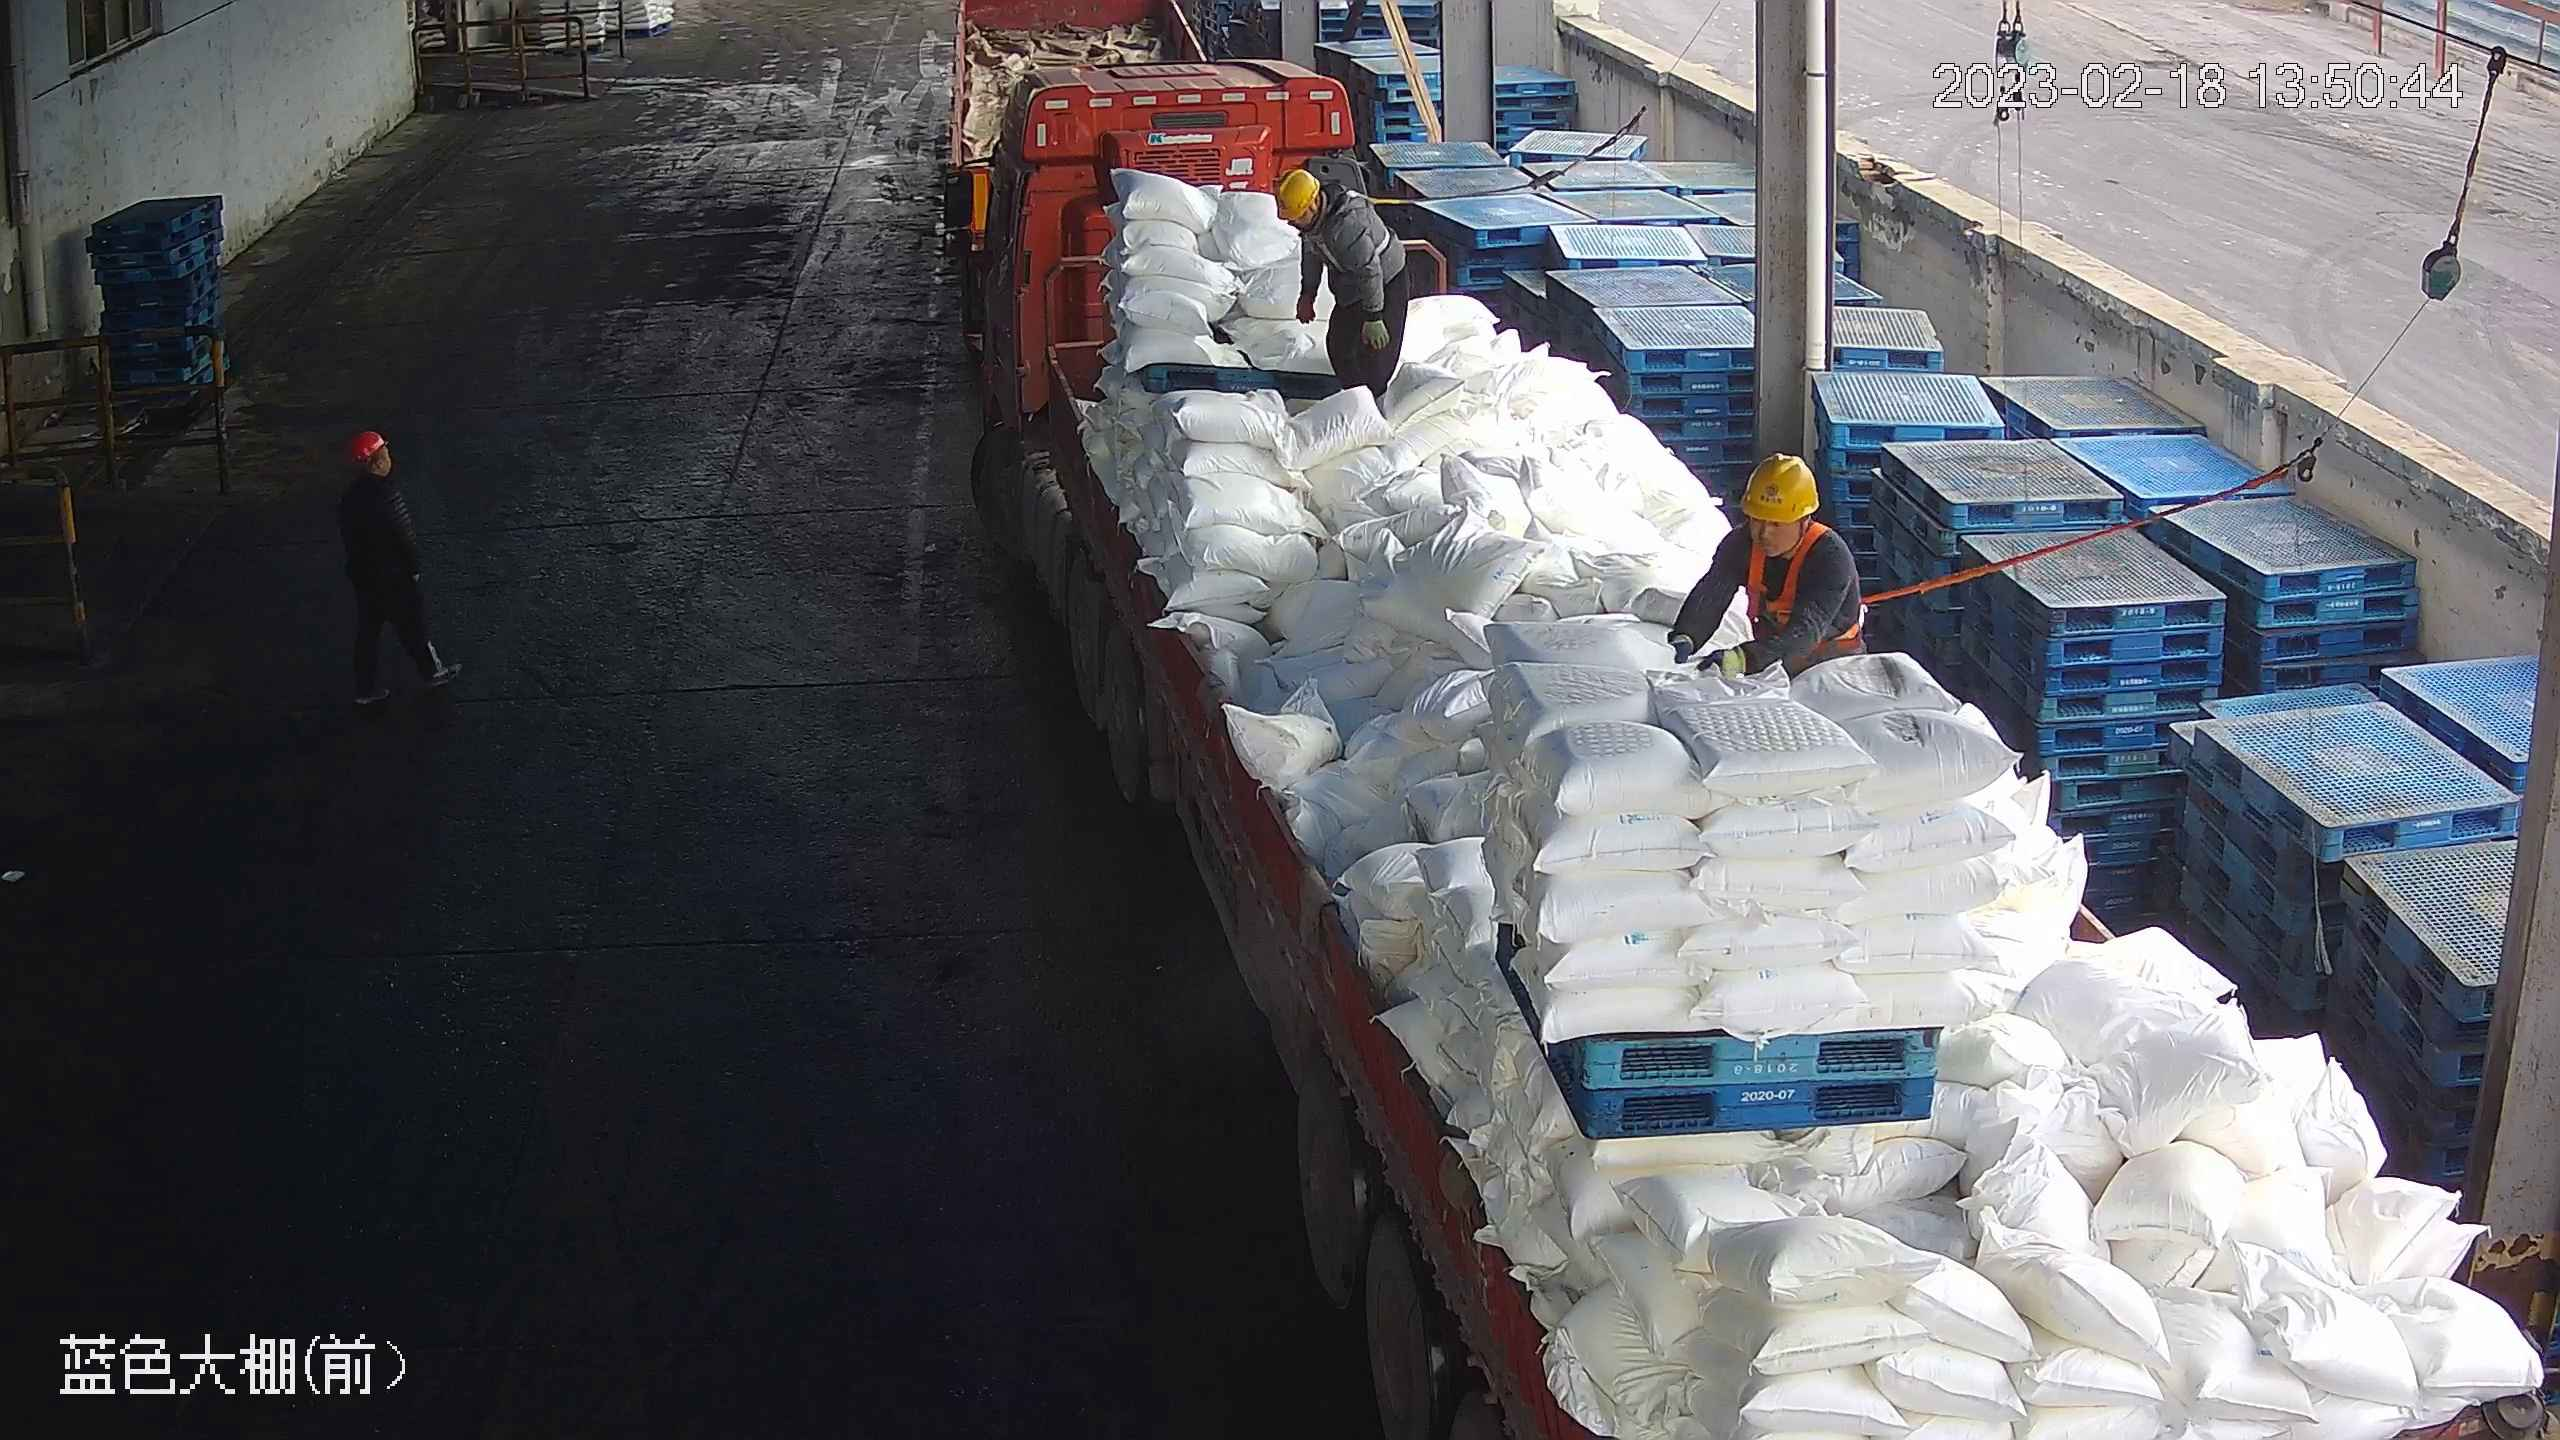belt: (1737, 528, 1870, 637), (1316, 183, 1402, 266)
head: (1706, 452, 1861, 620), (1275, 164, 1382, 261), (336, 426, 406, 518)
helmet: (1743, 453, 1820, 520), (1274, 170, 1324, 218), (347, 429, 388, 464)
people: (335, 427, 463, 708), (1273, 165, 1410, 391)
truck: (944, 54, 2560, 1440)
